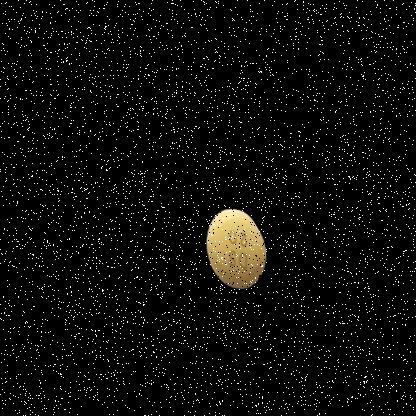rabeparzole20: (193, 190, 277, 301)
